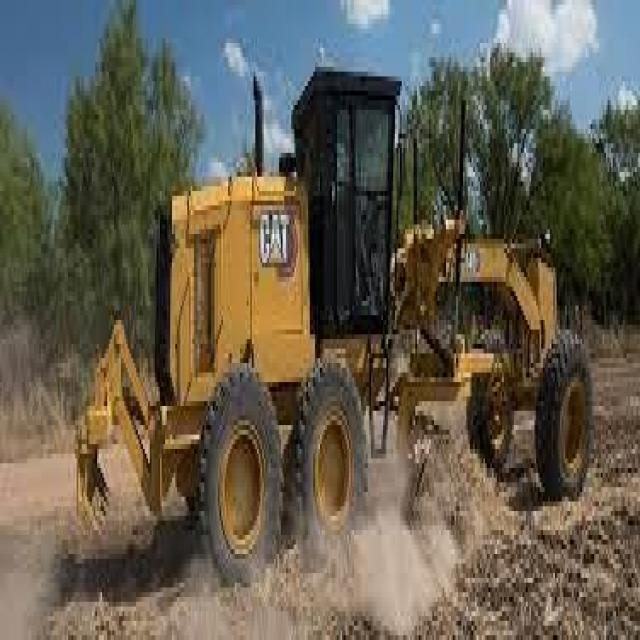Grader: (56, 48, 599, 626)
